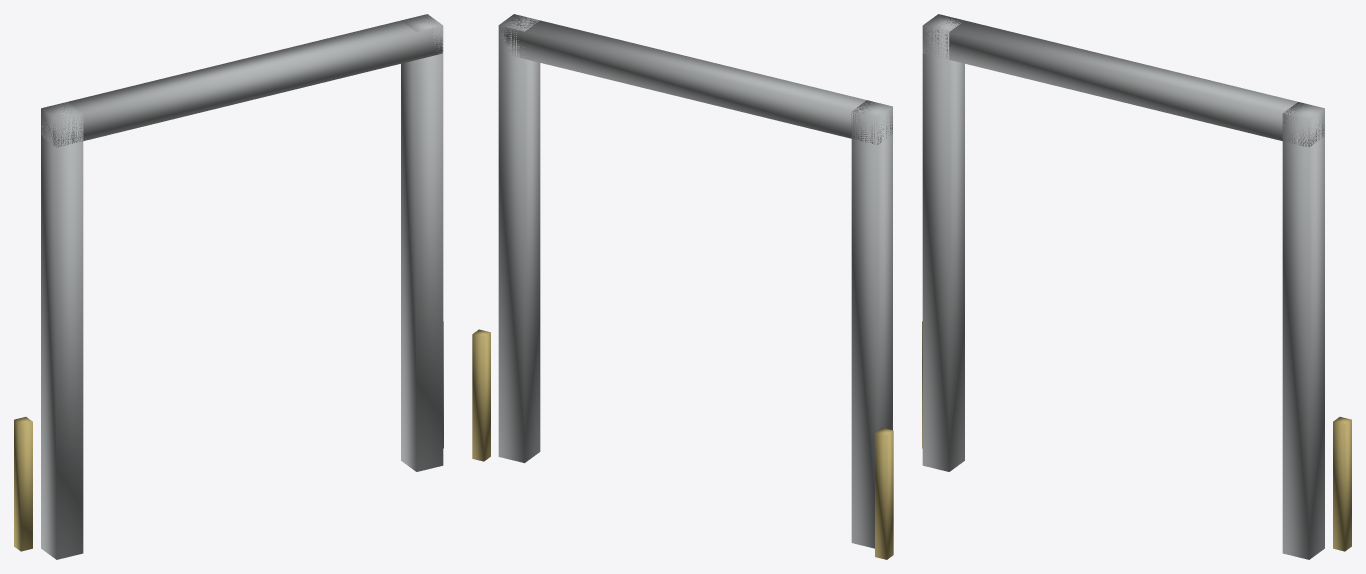
File: atrium_edge_industrial_w220_h260_d18.glb
The picture shows the model from 3 angles, left to right: view 1: azimuth 30°, elevation 25°; view 2: azimuth 150°, elevation 25°; view 3: azimuth 330°, elevation 25°; orthographic projection.
Visible parts, largest first — view 1: world; view 2: world; view 3: world.
Part boxes in pixels (left/top/right/bottom): world: left=14, top=14, right=443, bottom=559; world: left=472, top=14, right=893, bottom=559; world: left=922, top=14, right=1351, bottom=559.
Size of the model in its own units: 2.79 by 2.78 by 0.28.
